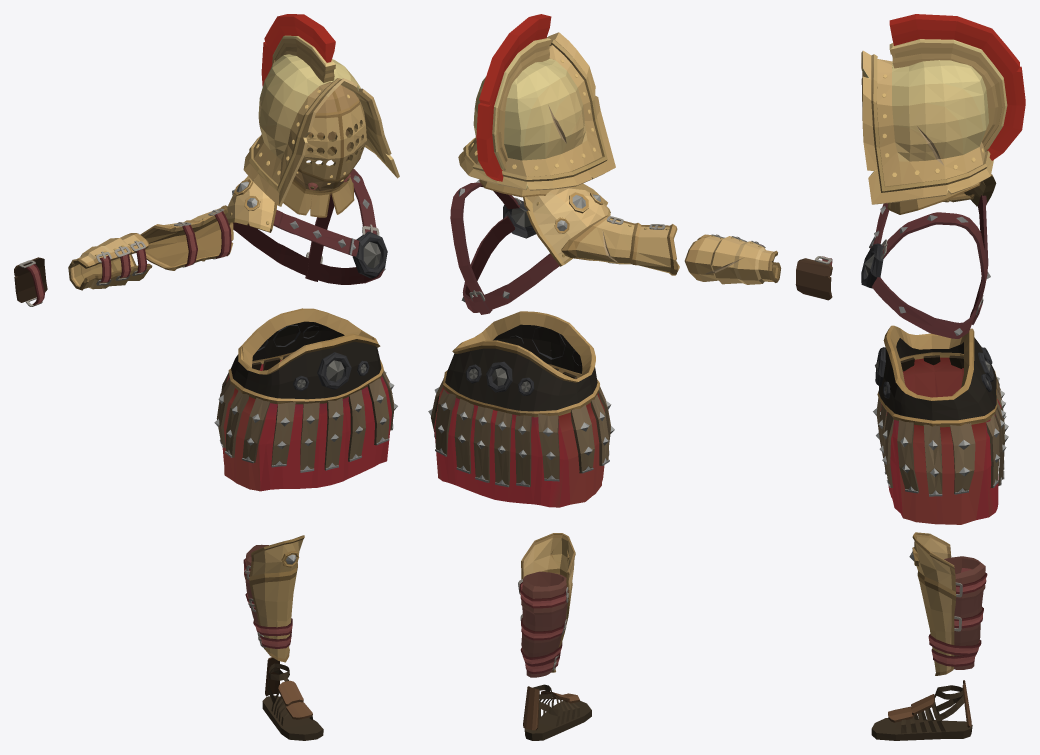
The model's file is gladiatorArmorFemale.glb.
3 renders of one model, left to right at view 1: azimuth 30°, elevation 25°; view 2: azimuth 150°, elevation 25°; view 3: azimuth 270°, elevation 25°, orthographic. The views are drawn at different scales.
Visible parts, largest first — view 1: gladiatorSkirt, gladiatorHelmet, gladiatorBody, gladiatorChinProtector, gladiatorUpperArmProtector, gladiatorLowerArmProtector, gladiatorSandleManFootLeg, gladiatorArmorHandArm; view 2: gladiatorSkirt, gladiatorHelmet, gladiatorBody, gladiatorChinProtector, gladiatorUpperArmProtector, gladiatorLowerArmProtector, gladiatorSandleManFootLeg, gladiatorArmorHandArm; view 3: gladiatorHelmet, gladiatorSkirt, gladiatorChinProtector, gladiatorBody, gladiatorSandleManFootLeg.
Part boxes in pixels (x1,y1,x2,y2): gladiatorSkirt: (214, 308, 397, 491); gladiatorHelmet: (243, 14, 399, 217); gladiatorBody: (226, 169, 387, 284); gladiatorChinProtector: (243, 535, 304, 662); gladiatorUpperArmProtector: (140, 205, 233, 270); gladiatorLowerArmProtector: (68, 233, 152, 290); gladiatorSandleManFootLeg: (262, 657, 323, 740); gladiatorArmorHandArm: (14, 257, 47, 306); gladiatorSkirt: (428, 311, 614, 507); gladiatorHelmet: (458, 14, 615, 197); gladiatorBody: (450, 179, 610, 314); gladiatorChinProtector: (518, 533, 575, 677); gladiatorUpperArmProtector: (561, 215, 679, 275); gladiatorLowerArmProtector: (684, 234, 781, 284); gladiatorSandleManFootLeg: (523, 684, 591, 740); gladiatorArmorHandArm: (795, 256, 832, 300); gladiatorHelmet: (861, 14, 1025, 214); gladiatorSkirt: (873, 325, 1008, 524); gladiatorChinProtector: (909, 532, 987, 675); gladiatorBody: (861, 174, 996, 338); gladiatorSandleManFootLeg: (871, 680, 972, 740).
Size of the model in its own units: 1.17 by 2.01 by 0.4101.
